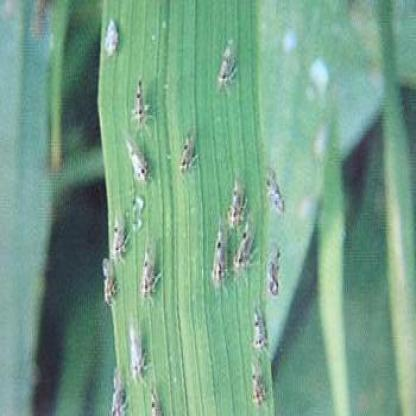brown-planthopper: (124, 138, 148, 185), (262, 167, 286, 214), (218, 36, 238, 92), (180, 127, 202, 176), (233, 233, 255, 281), (228, 178, 247, 230), (132, 76, 150, 130), (141, 245, 158, 301), (128, 325, 144, 380), (212, 227, 226, 288), (265, 244, 280, 297), (248, 365, 266, 408), (101, 257, 116, 305), (112, 216, 129, 258), (251, 312, 268, 350), (102, 18, 118, 56)
